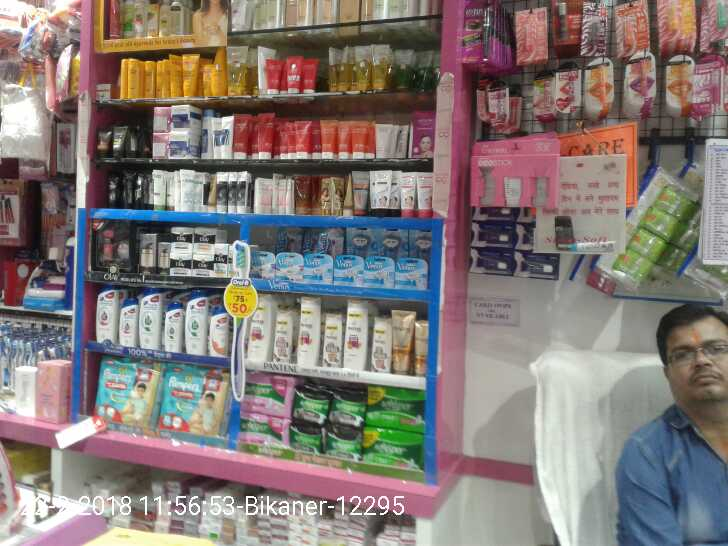venus: (394, 258, 429, 287), (336, 258, 367, 289), (304, 253, 333, 282), (367, 258, 394, 287), (374, 230, 408, 253), (275, 254, 304, 278), (318, 228, 343, 253), (252, 253, 275, 278), (347, 230, 374, 251), (408, 231, 433, 253), (278, 226, 302, 248), (302, 228, 318, 248)
